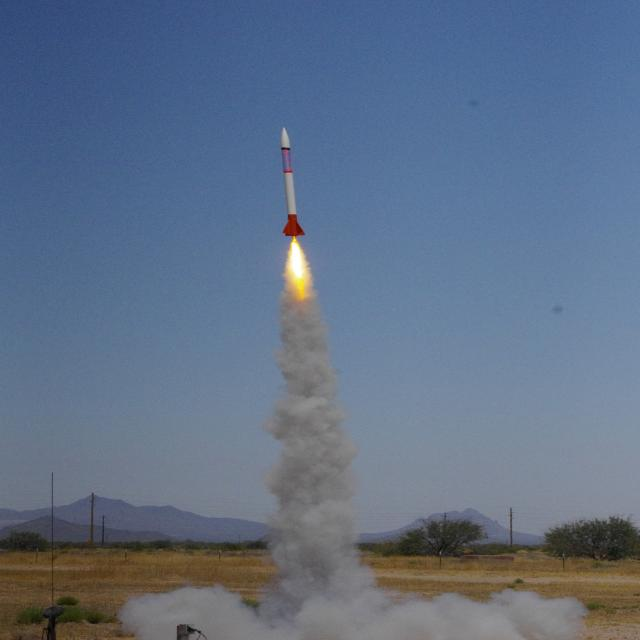Rocket: (280, 126, 306, 236)
